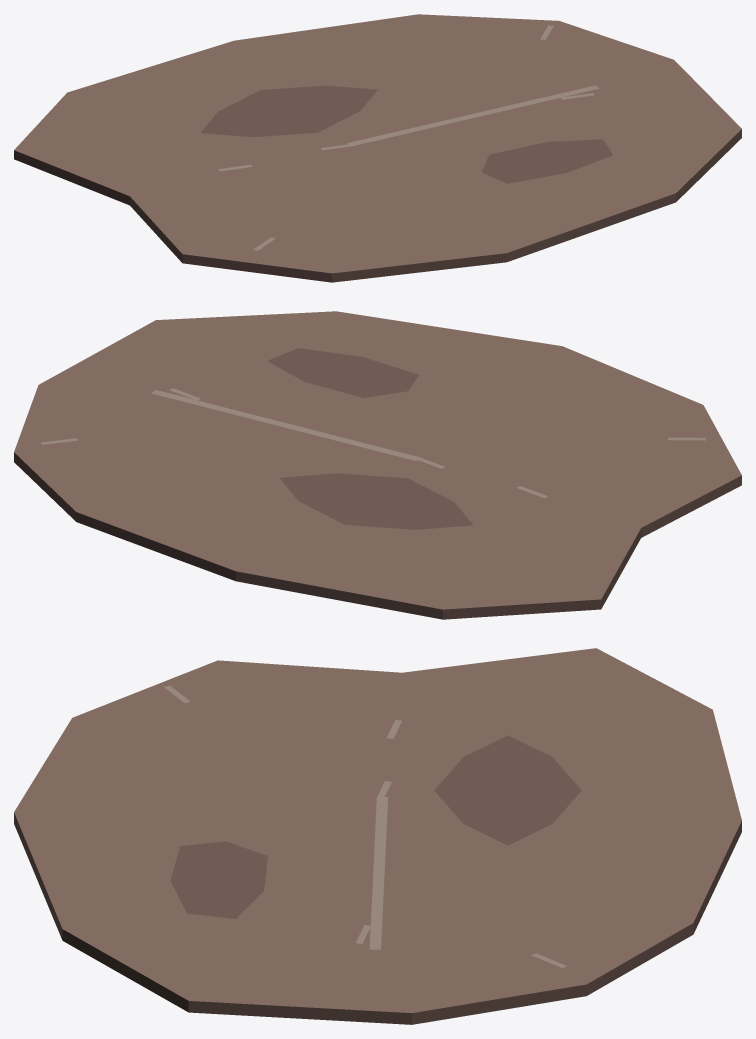
The model's file is TannedHumanHide.glb.
3 renders of one model, top to bottom at view 1: azimuth 30°, elevation 25°; view 2: azimuth 150°, elevation 25°; view 3: azimuth 270°, elevation 25°, orthographic. The views are drawn at different scales.
Visible parts, largest first — view 1: TannedHumanHide; view 2: TannedHumanHide; view 3: TannedHumanHide.
Part boxes in pixels (bbox=[...]): TannedHumanHide: bbox=[14, 14, 741, 282]; TannedHumanHide: bbox=[14, 311, 741, 619]; TannedHumanHide: bbox=[14, 648, 741, 1024].
Bounding box in the file's own units: 1.67 × 0.04 × 1.41.
